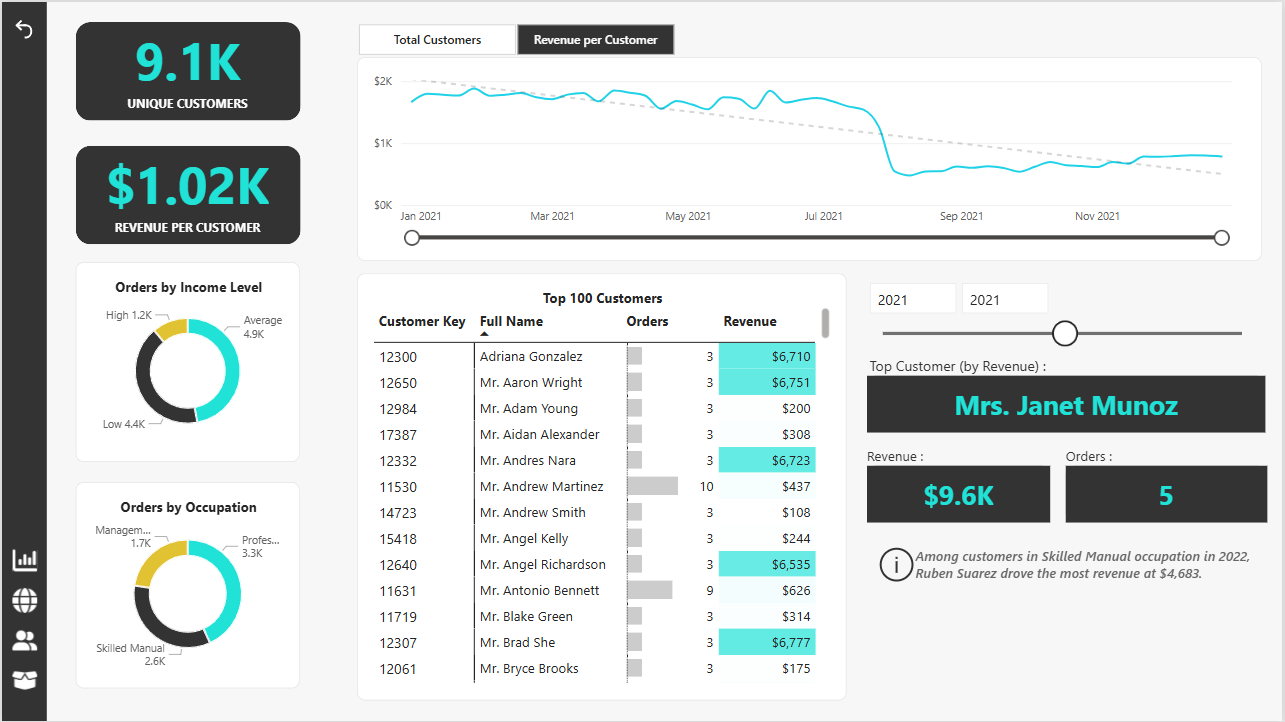

What the dashboard file says about the page in this screenshot:
{"tool":"powerbi","page":{"name":"Customer Detail","canvas":[1280,720],"ordinal":2},"visuals":[{"type":"shape","box":[0,0,45,720],"z":0},{"type":"actionButton","box":[0,538.8,45,40],"z":0,"group":"g2"},{"type":"shape","box":[73.8,20,225,98.8],"z":1000},{"type":"actionButton","box":[0,578.8,45,40],"z":1000,"group":"g2"},{"type":"shape","box":[73.8,143.8,225,98.8],"z":2000},{"type":"actionButton","box":[0,618.8,45,40],"z":2000,"group":"g2"},{"type":"cardVisual","fields":{"Data":["Measure Table.Average Revenue per Customer"]},"box":[70,137.5,231.2,105],"z":3000},{"type":"actionButton","box":[0,658.8,45,40],"z":3000,"group":"g2"},{"type":"group","id":"g1","title":"KPI Values","box":[70,13.8,231.2,105],"z":4000},{"type":"cardVisual","fields":{"Data":["Measure Table.Total Customers"]},"box":[70,13.8,231.2,105],"z":5000,"group":"g1"},{"type":"lineChart","title":"Customers Trending","fields":{"Category":["Calendar Lookup.Date Hierarchy.Start of Year","Calendar Lookup.Date Hierarchy.Start of Month","Calendar Lookup.Date Hierarchy.Start of Week","Calendar Lookup.Date Hierarchy.Date"],"Y":["Measure Table.Average Revenue per Customer"]},"box":[354.7,55.5,904.8,203.9],"z":5000},{"type":"donutChart","title":"Orders by Income Level","fields":{"Category":["Customer Lookup.Income Level"],"Y":["Measure Table.Total Orders"]},"box":[73.6,259.4,224.4,200.3],"z":6000},{"type":"donutChart","title":"Orders by Occupation","fields":{"Category":["Customer Lookup.Occupation"],"Y":["Measure Table.Total Orders"]},"box":[73.6,480.2,224.4,206.3],"z":7000},{"type":"pivotTable","title":"Top 100 Customers","fields":{"Rows":["Customer Lookup.CustomerKey"],"Values":["Min(Customer Lookup.Full Name)","Measure Table.Total Orders","Measure Table.Total Revenue"]},"box":[354.7,271.4,489.8,427.1],"z":8000},{"type":"cardVisual","fields":{"Data":["Customer Lookup.Full Name (Customer Detail)"]},"box":[864.8,374.2,398.2,56.9],"z":9000},{"type":"textbox","box":[867.2,354,181,20.5],"z":10000},{"type":"slicer","fields":{"Values":["Calendar Lookup.Year"]},"box":[860.2,276.3,398.1,83.2],"z":11000},{"type":"cardVisual","fields":{"Data":["Measure Table.Total Orders (Customer Detail)"]},"box":[1063.9,463.8,202,56.9],"z":12000},{"type":"cardVisual","fields":{"Data":["Measure Table.Total Revenue (Customer Detail)"]},"box":[864.8,463.8,183.5,56.9],"z":13000},{"type":"textbox","box":[864.8,443.9,180.6,19.9],"z":14000},{"type":"textbox","box":[1063.9,443.9,180.6,19.9],"z":15000},{"type":"actionButton","box":[0,7.2,44.6,39.8],"z":16000},{"type":"actionButton","box":[864.3,520.7,398.1,74.8],"z":17000},{"type":"group","id":"g2","title":"Navigation Buttons","box":[0,538.8,45,160],"z":18000},{"type":"slicer","fields":{"Values":["Customer Metric Selection.Customer Metric Selection"]},"box":[336.6,20.5,354.7,35],"z":19000}]}

Visuals, with their boxes in screenshot pixels (x1, y1, x2, y2), scaled from the page's 1280x720 canvas onto the 1285x722 screenshot:
shape: l=0, t=0, r=45, b=721
actionButton: l=0, t=540, r=45, b=580
shape: l=74, t=20, r=300, b=119
actionButton: l=0, t=580, r=45, b=621
shape: l=74, t=144, r=300, b=243
actionButton: l=0, t=621, r=45, b=661
cardVisual - Measure Table.Average Revenue per Customer: l=70, t=138, r=302, b=243
actionButton: l=0, t=661, r=45, b=701
"KPI Values" group: l=70, t=14, r=302, b=119
cardVisual - Measure Table.Total Customers: l=70, t=14, r=302, b=119
"Customers Trending" lineChart: l=356, t=56, r=1264, b=260
"Orders by Income Level" donutChart: l=74, t=260, r=299, b=461
"Orders by Occupation" donutChart: l=74, t=482, r=299, b=688
"Top 100 Customers" pivotTable: l=356, t=272, r=848, b=700
cardVisual - Customer Lookup.Full Name (Customer Detail): l=868, t=375, r=1268, b=432
textbox: l=871, t=355, r=1052, b=376
slicer - Calendar Lookup.Year: l=864, t=277, r=1263, b=360
cardVisual - Measure Table.Total Orders (Customer Detail): l=1068, t=465, r=1271, b=522
cardVisual - Measure Table.Total Revenue (Customer Detail): l=868, t=465, r=1052, b=522
textbox: l=868, t=445, r=1049, b=465
textbox: l=1068, t=445, r=1249, b=465
actionButton: l=0, t=7, r=45, b=47
actionButton: l=868, t=522, r=1267, b=597
"Navigation Buttons" group: l=0, t=540, r=45, b=701
slicer - Customer Metric Selection.Customer Metric Selection: l=338, t=21, r=694, b=56
